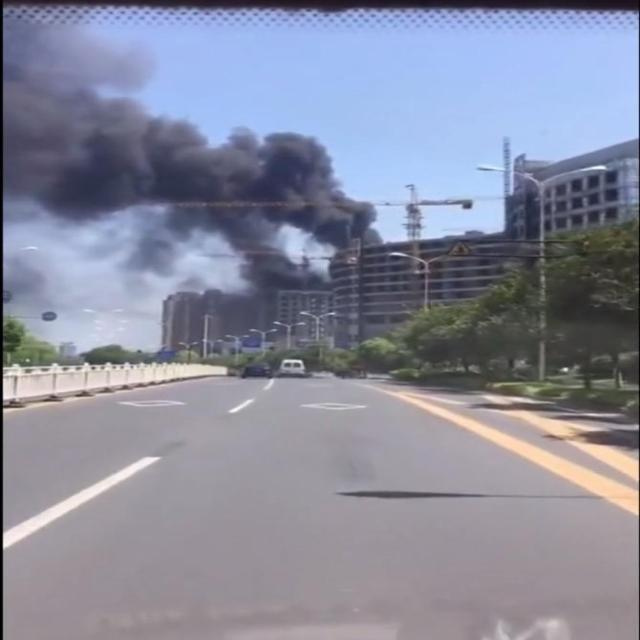Smoke: (5, 22, 392, 284), (0, 218, 212, 346)
